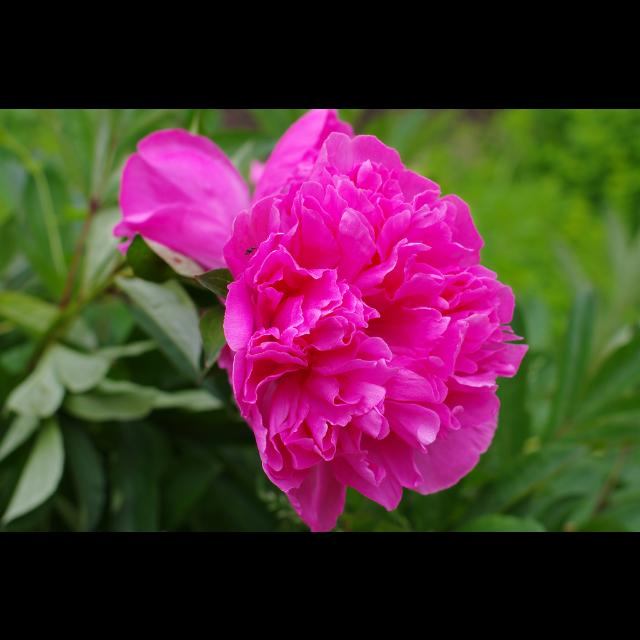Flower: (224, 108, 548, 520), (110, 130, 254, 272)
